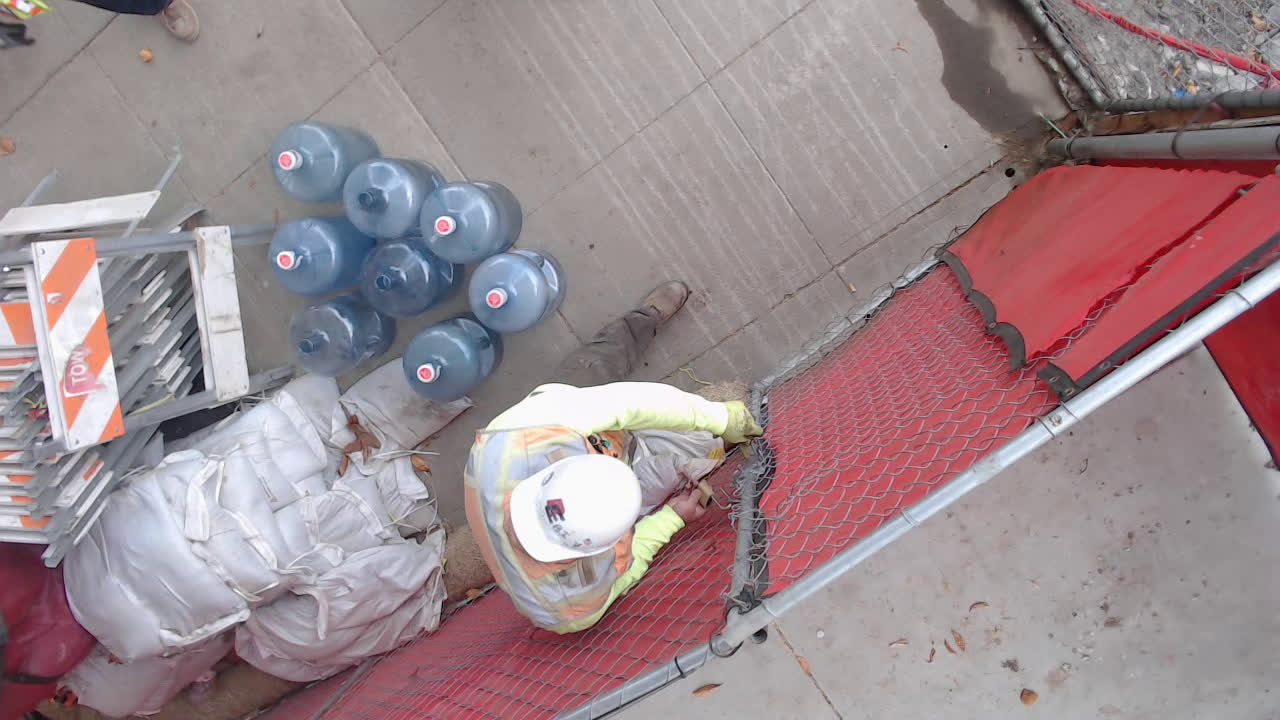hardhat: (506, 450, 645, 561)
safetyvest: (458, 426, 633, 627)
